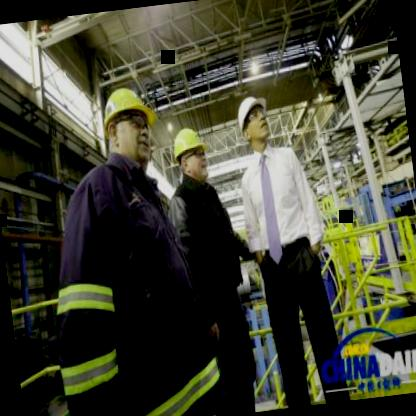helmet: (92, 67, 166, 183), (230, 86, 278, 157), (165, 121, 215, 188)
